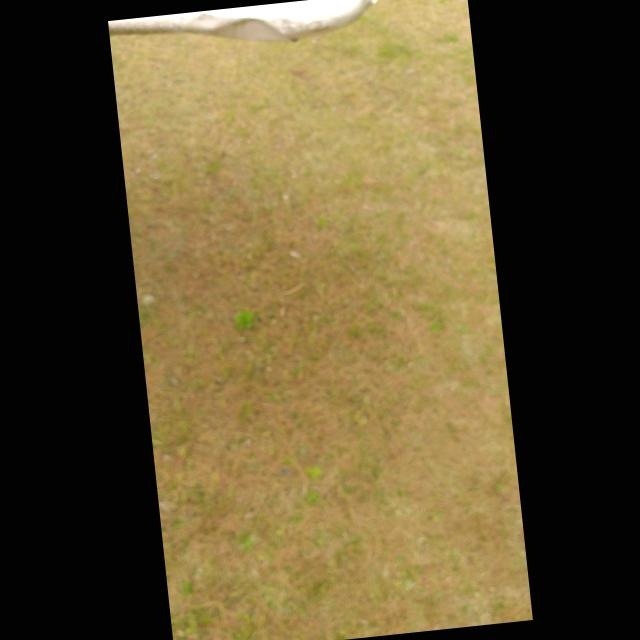dent: (213, 10, 292, 54), (192, 9, 220, 32)
